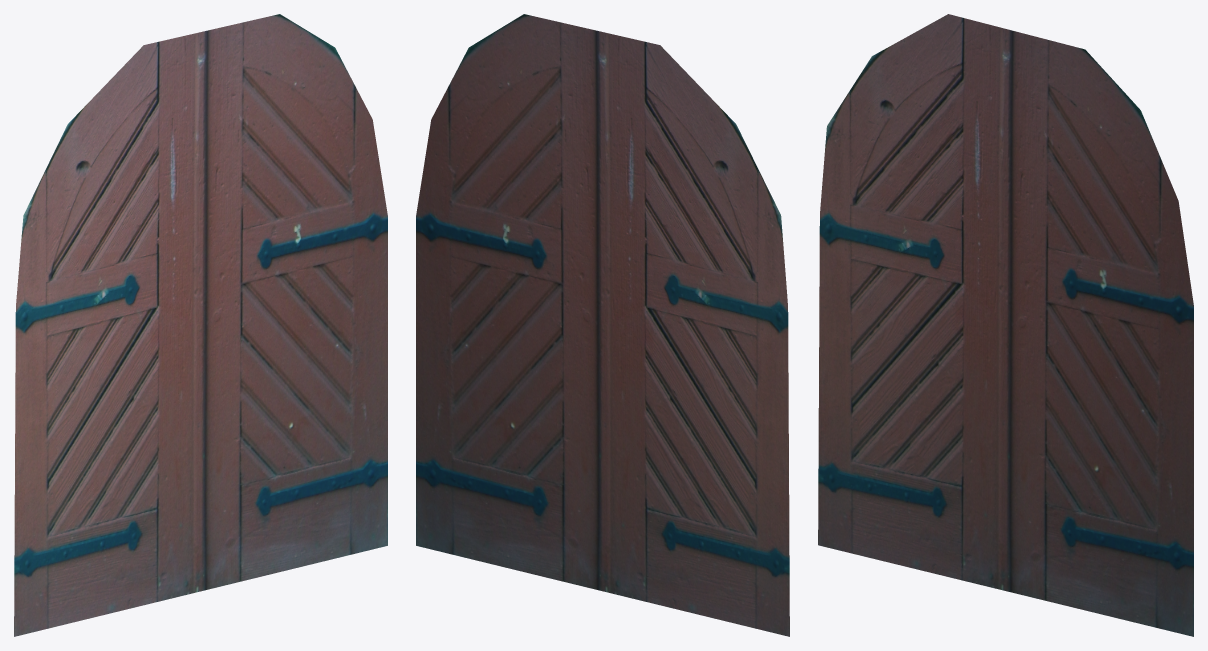
File: gate-big-1.fbx
3 views of the same model, side by side, from view 1: azimuth 30°, elevation 25°; view 2: azimuth 150°, elevation 25°; view 3: azimuth 330°, elevation 25° (orthographic).
Parts seen in each view (by area): view 1: gate-big-1; view 2: gate-big-1; view 3: gate-big-1.
Boxes of the visible parts, left/top/right/bottom form: gate-big-1: left=14, top=14, right=387, bottom=636; gate-big-1: left=416, top=14, right=789, bottom=636; gate-big-1: left=818, top=14, right=1193, bottom=636.
Bounding box in the file's own units: 238 × 341 × 0.29.
